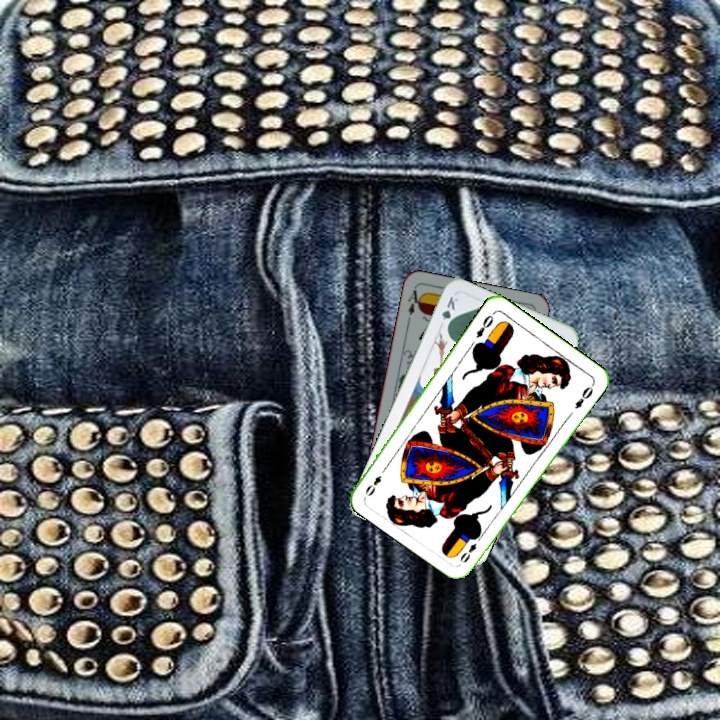EA: (403, 286, 424, 325)
EO: (456, 531, 485, 565), (472, 309, 497, 340)
GK: (436, 292, 461, 332)
